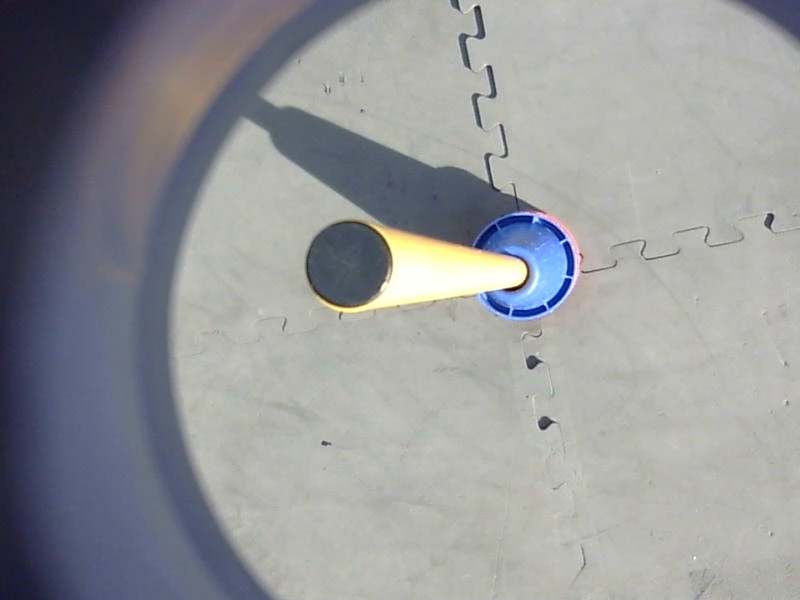tip: (299, 216, 400, 315)
